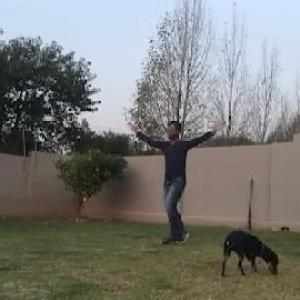takeoff: (141, 115, 265, 255)
